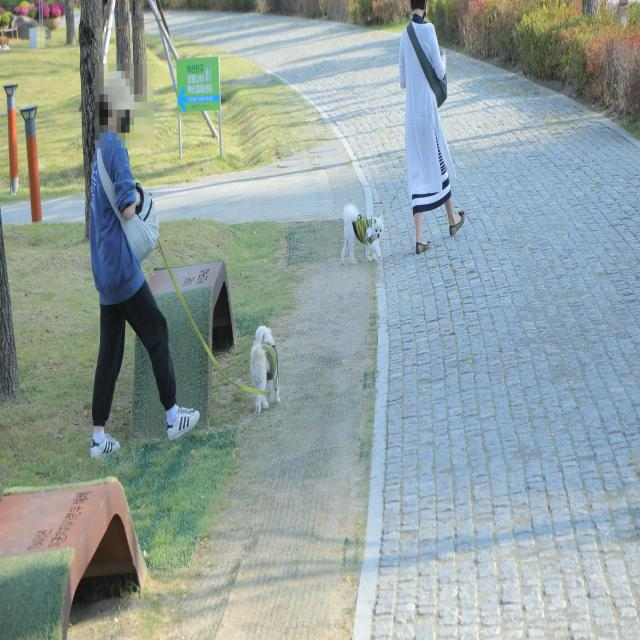Leashed_Dog: (114, 236, 281, 416), (341, 120, 430, 266)
